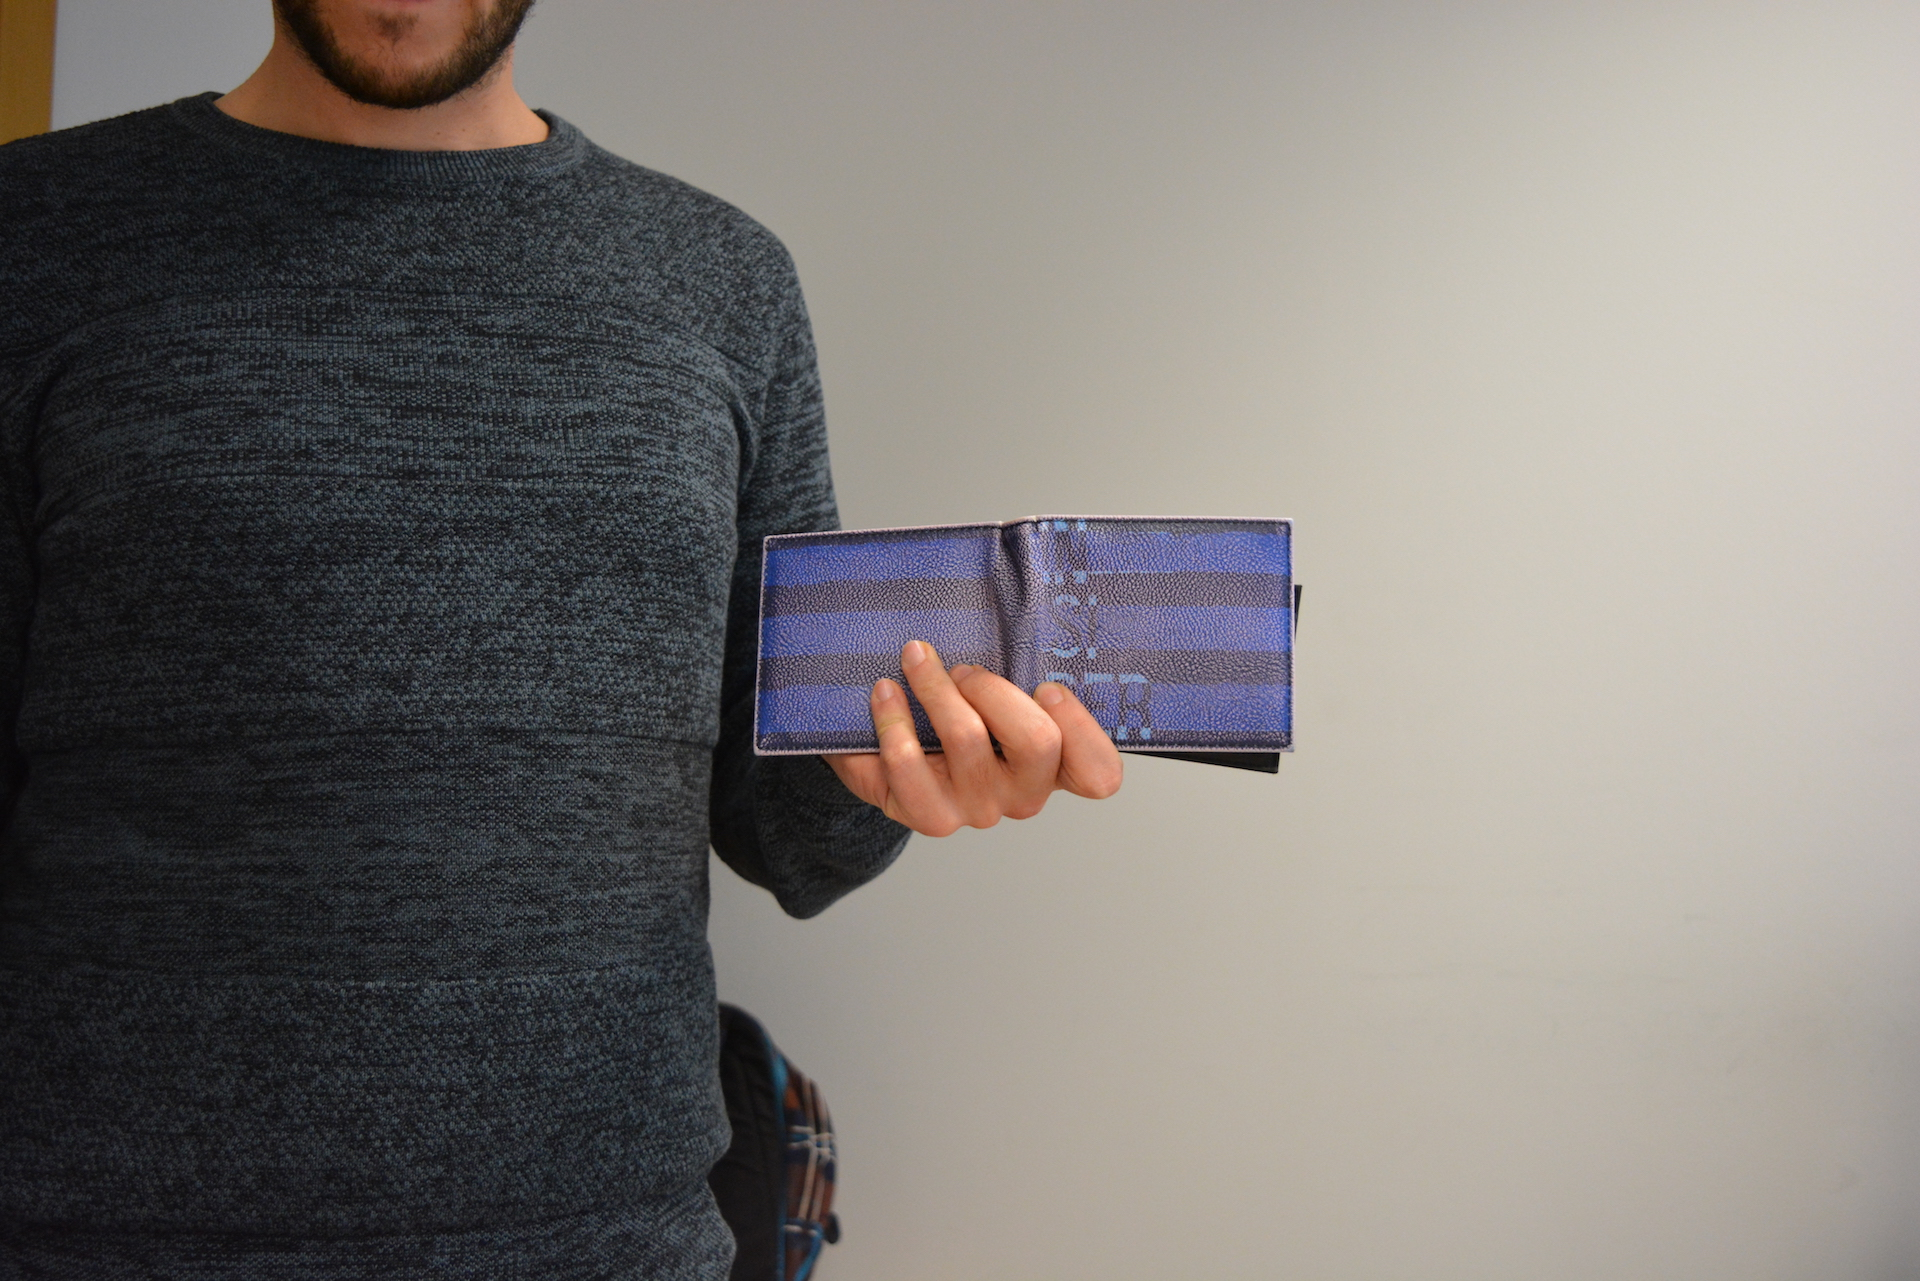monedero: (751, 513, 1305, 776)
